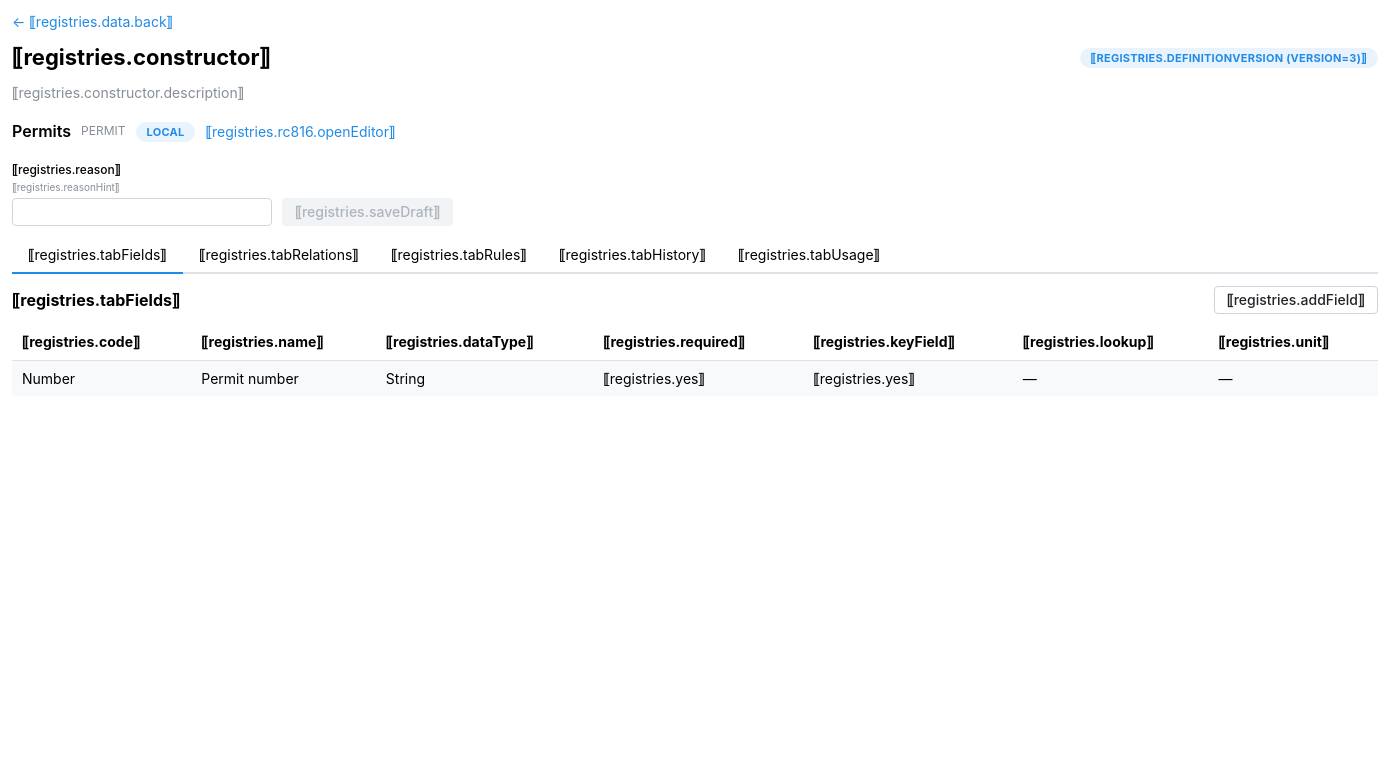
RegistryConstructorPage: обов'язкове нове поле › у довіднику без записів прапорець активний
Click the button "⟦registries.addField⟧".
click(1296, 300)  # box [1214,286,1378,314]
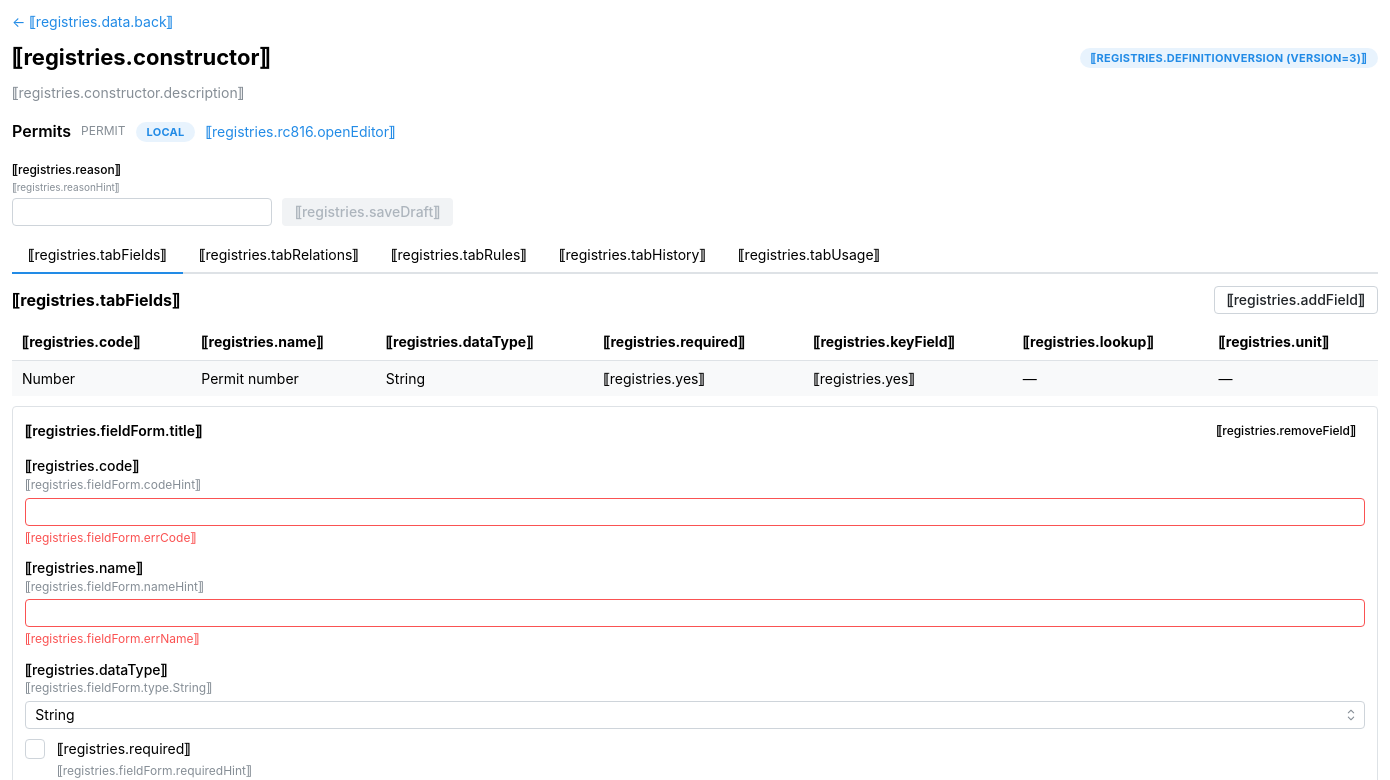
expect the checkbox labelled "⟦registries.required⟧" is enabled: met, box [25,739,45,759]
